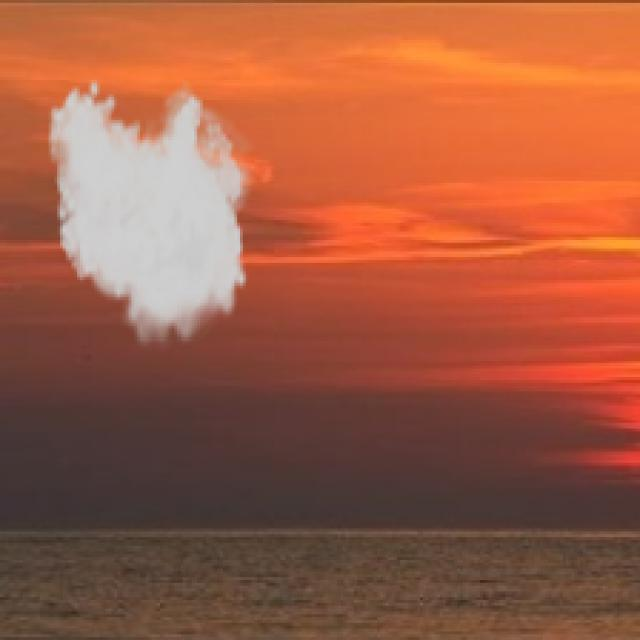Smoke: (46, 77, 260, 354)
